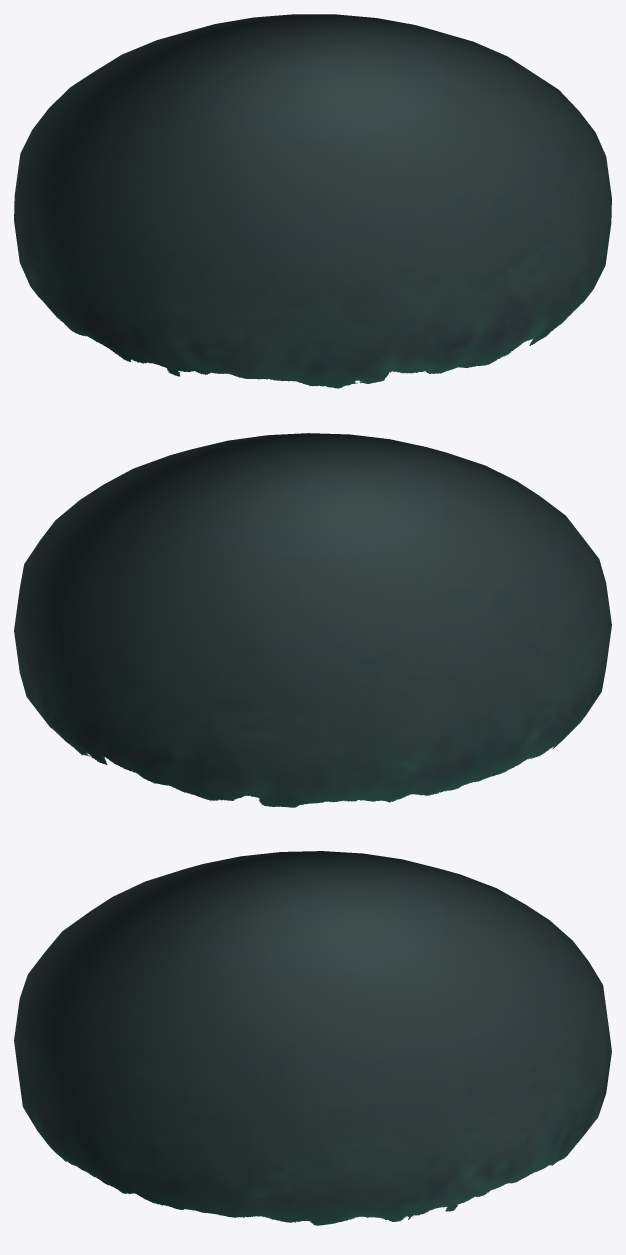
Rendered from cavern_sky.fbx.
3 renders of one model, top to bottom at view 1: azimuth 30°, elevation 25°; view 2: azimuth 150°, elevation 25°; view 3: azimuth 270°, elevation 25°, orthographic.
Parts seen in each view (by area): view 1: GothicDome.SKY1; view 2: GothicDome.SKY1; view 3: GothicDome.SKY1.
Part boxes in pixels (x1,y1,x2,y2): GothicDome.SKY1: (14, 14, 611, 388); GothicDome.SKY1: (14, 433, 611, 807); GothicDome.SKY1: (14, 851, 611, 1225).
Bounding box in the file's own units: 24.12 × 12.63 × 24.12.
